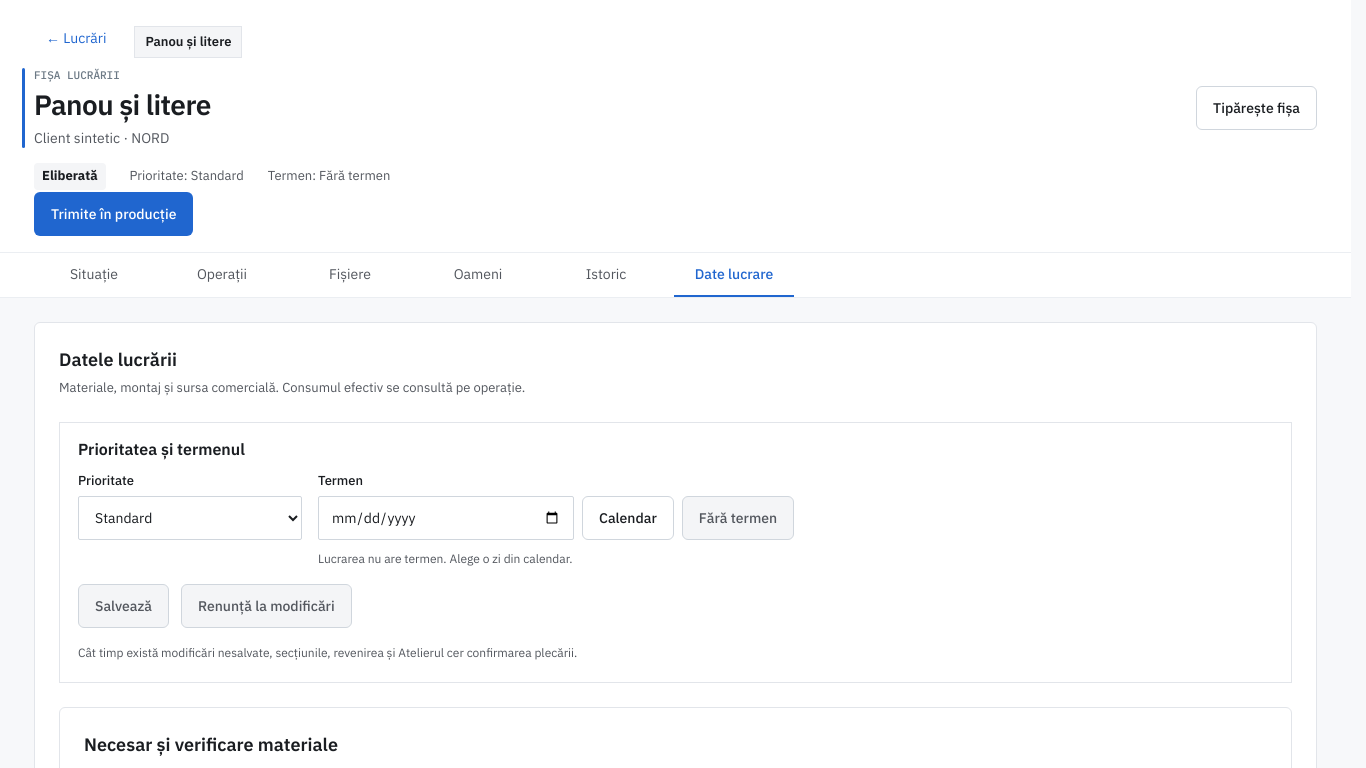
Test case: job planning · panel in Date lucrare (N-018) › names the unsaved state, retries a failed save in place and discards on request without asking again
Expected: the heading "Panou și litere" is shown, left=34, top=87, right=211, bottom=124
Type "2026-11-30" into the date field labelled "Termen". click: (446, 518)
box: left=318, top=496, right=574, bottom=540
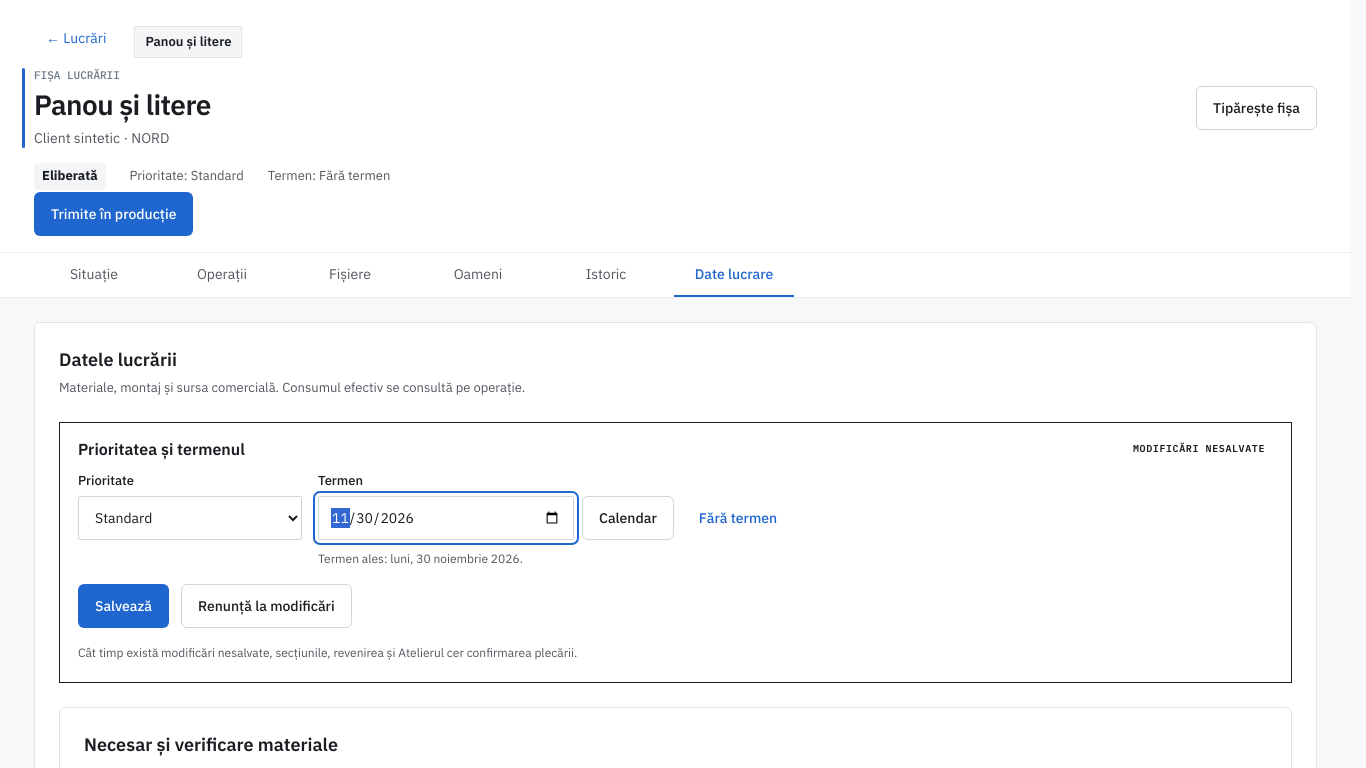
Expected: the text "Modificări nesalvate" is shown, left=1125, top=439, right=1273, bottom=459
Click the button "Salvează". click: (124, 606)
box: left=78, top=584, right=169, bottom=628
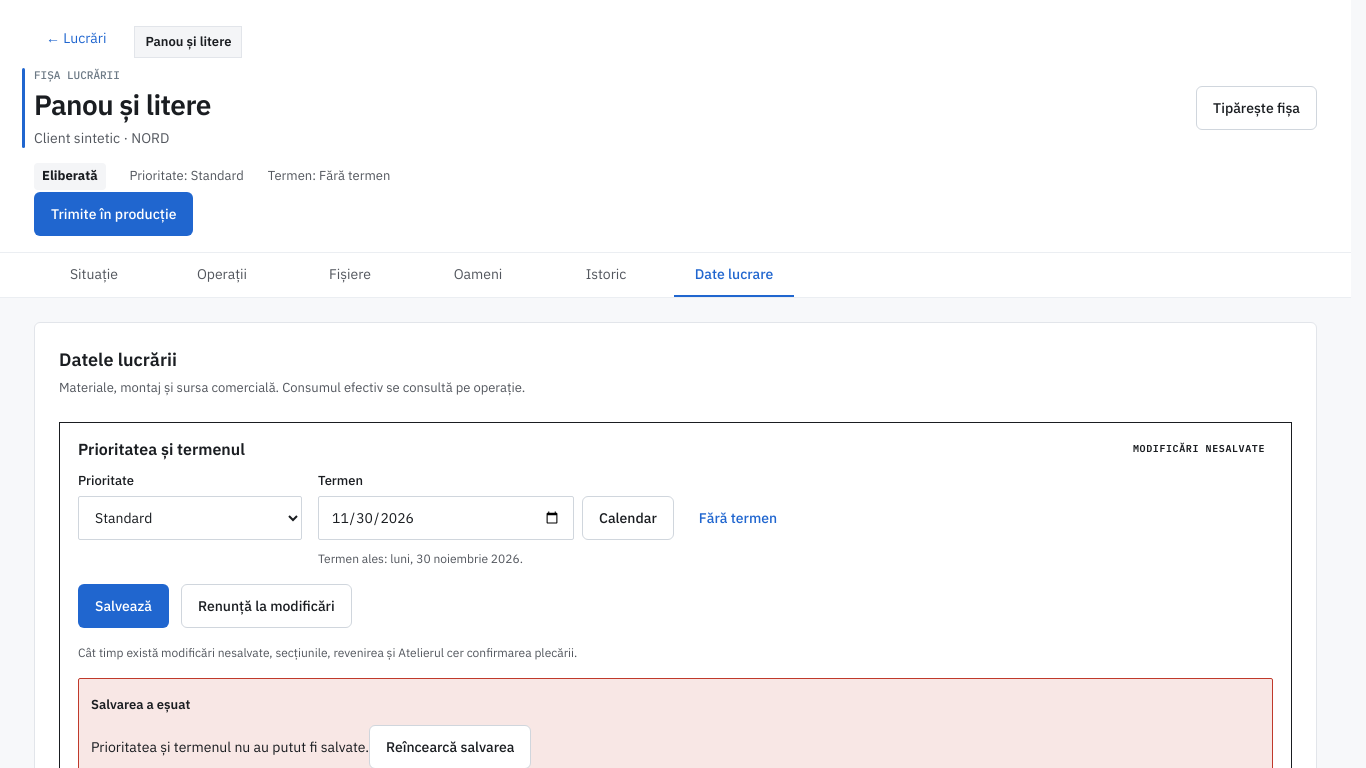
Expected: the text "Prioritatea și termenul nu au putut fi salvate." is shown, left=91, top=738, right=369, bottom=756
Click the button "Reîncearcă salvarea". click: (450, 747)
box: left=369, top=725, right=531, bottom=767
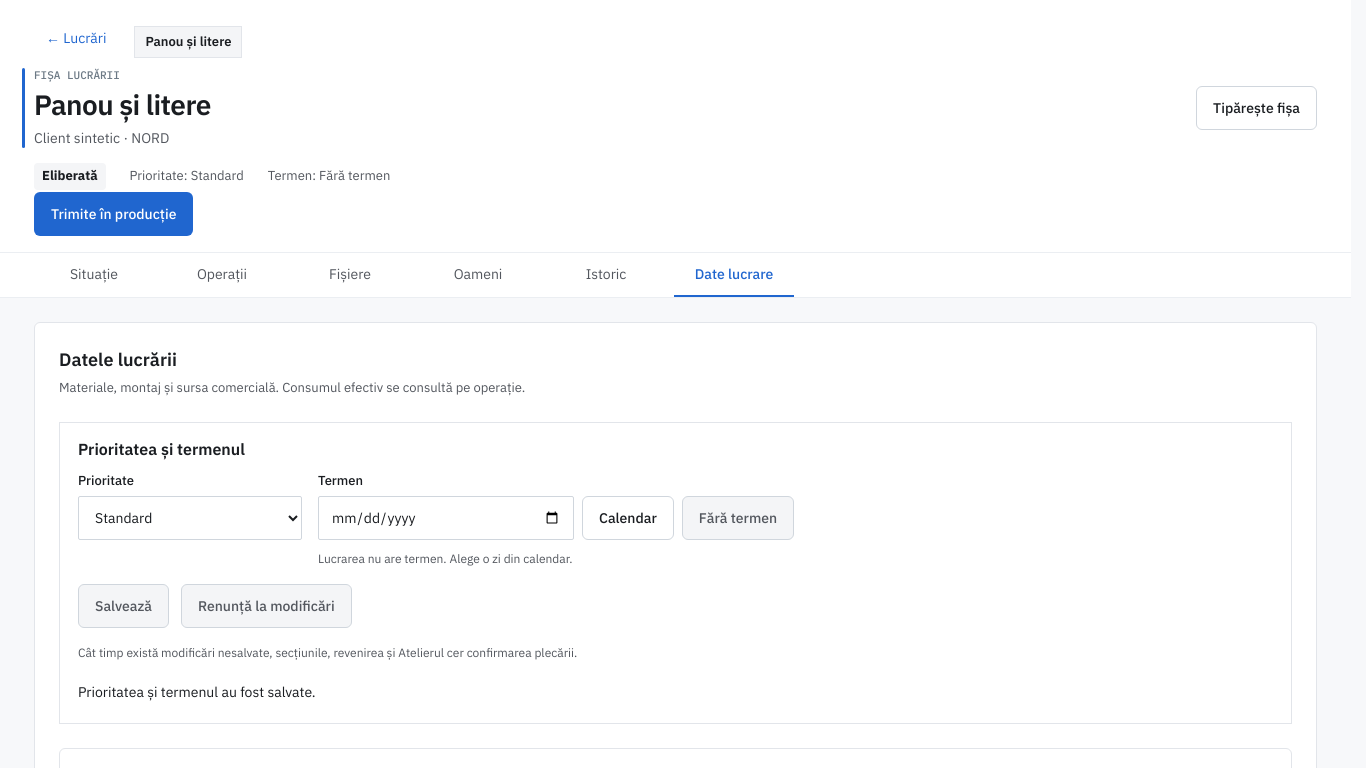
Expected: the text "Prioritatea și termenul au fost salvate." is shown, left=78, top=683, right=316, bottom=701
